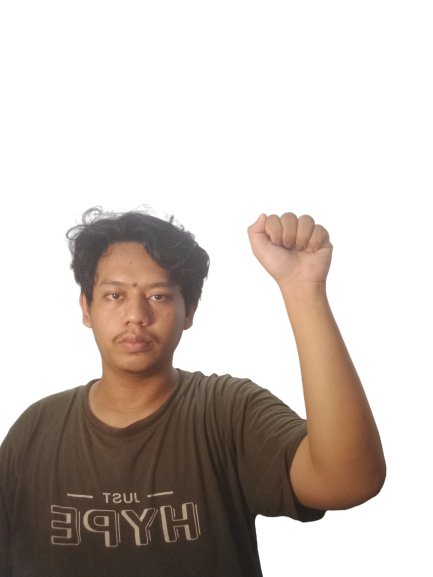A: (240, 207, 348, 294)
